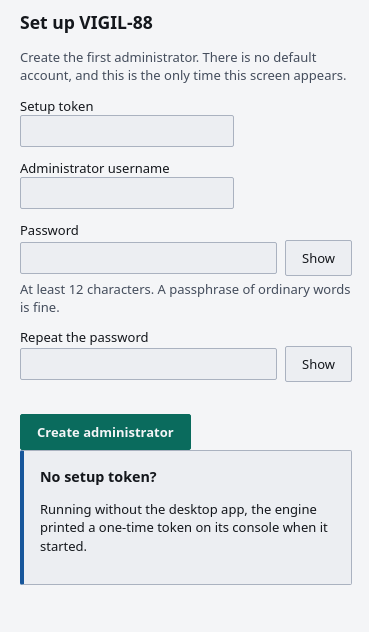
Scenario: Setup › refuses mismatched passwords before asking the engine anything
Type "tok" into the field labelled "Setup token" at (127, 131), box [20, 115, 234, 147]
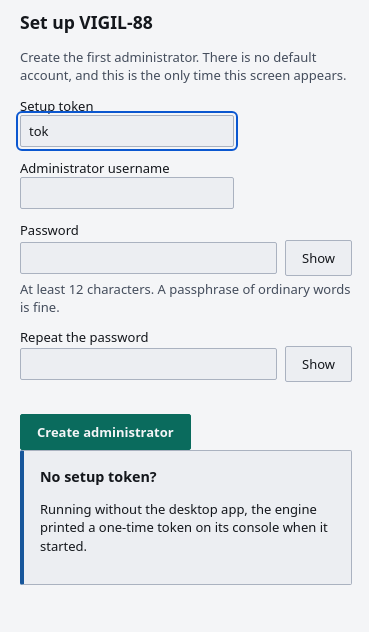
Type "alice" into the field labelled "Administrator username" at (127, 193), box [20, 177, 234, 209]
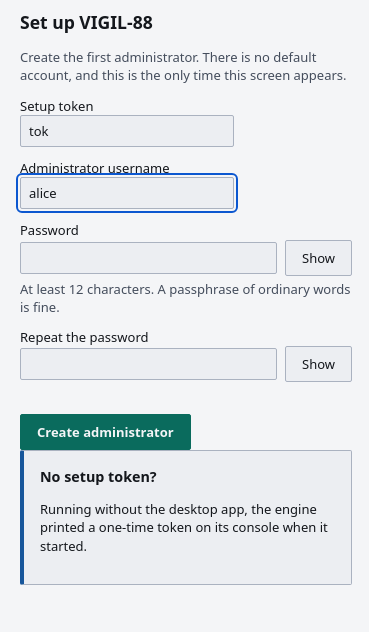
Type "correct horse battery" into the password field labelled "Password" at (148, 258), box [20, 242, 277, 274]
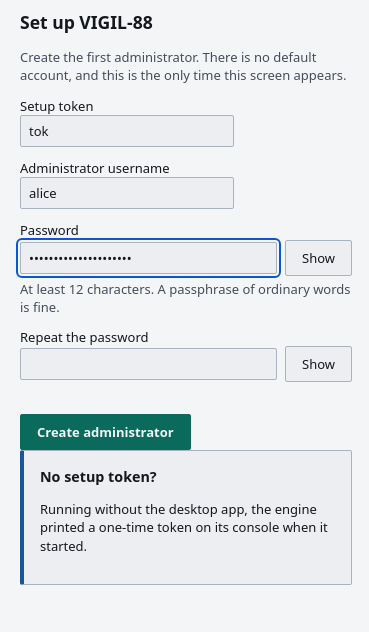
Type "correct horse batterY" into the password field labelled "Repeat the password" at (148, 364), box [20, 348, 277, 380]
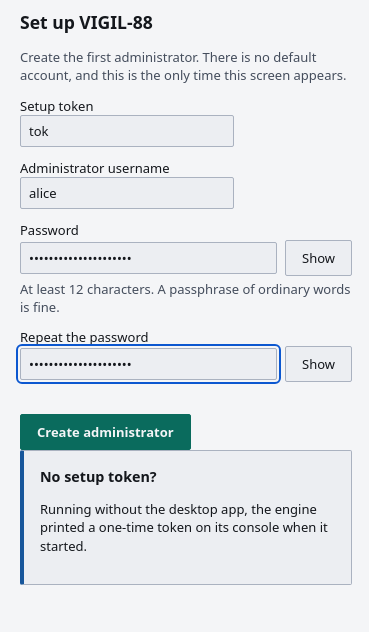
Click the button "Create administrator" at (105, 432), box [20, 414, 191, 450]
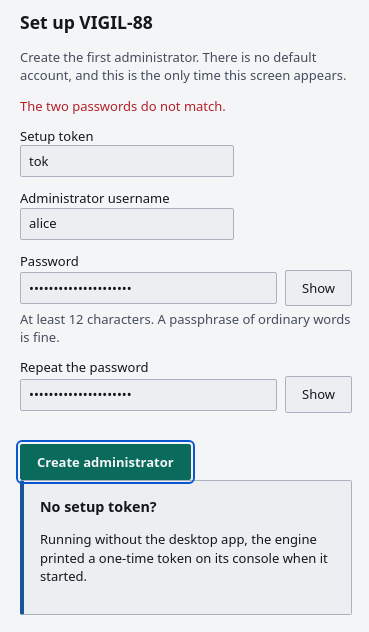
Now the message "The two passwords do not match." is shown, box [20, 97, 226, 115]
